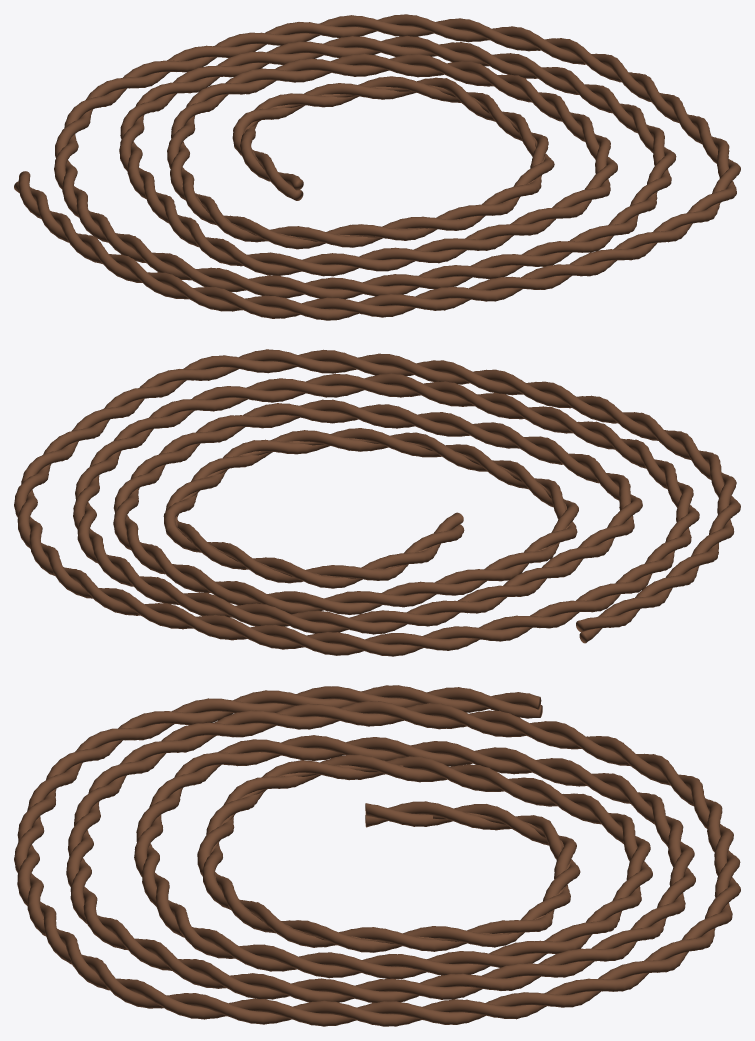
Rendered from rope.fbx.
3 views of the same model, one above another, from view 1: azimuth 30°, elevation 25°; view 2: azimuth 150°, elevation 25°; view 3: azimuth 270°, elevation 25° (orthographic). The views are drawn at different scales.
Visible parts, largest first — view 1: rope; view 2: rope; view 3: rope.
Boxes of the visible parts, bbox=[...] form: rope: bbox=[14, 14, 740, 320]; rope: bbox=[14, 349, 740, 656]; rope: bbox=[14, 685, 740, 1026].
Bounding box in the file's own units: 14.77 × 0.4991 × 13.88.
1 material, 1 textured.
